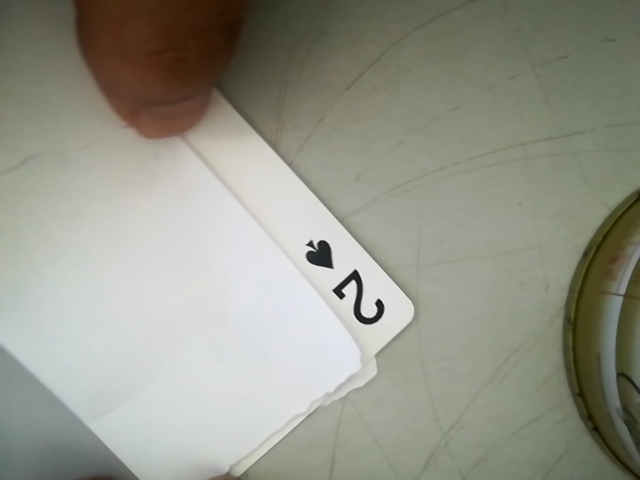ht 2: (301, 227, 394, 335)
